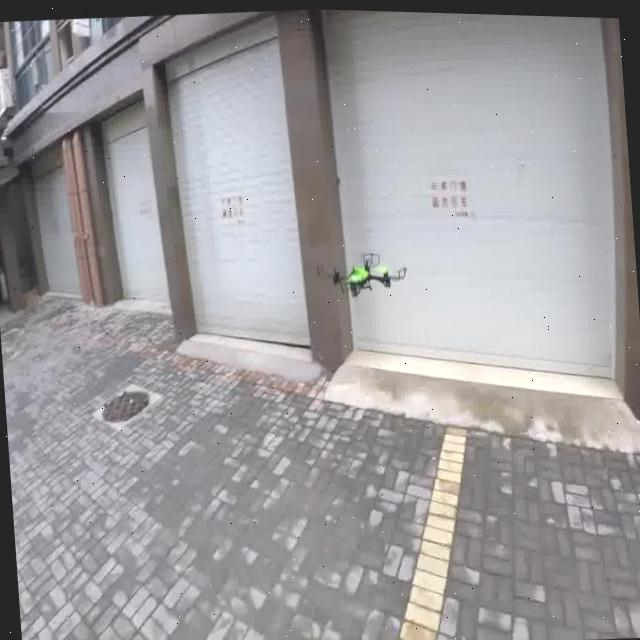drone: (326, 224, 418, 302)
